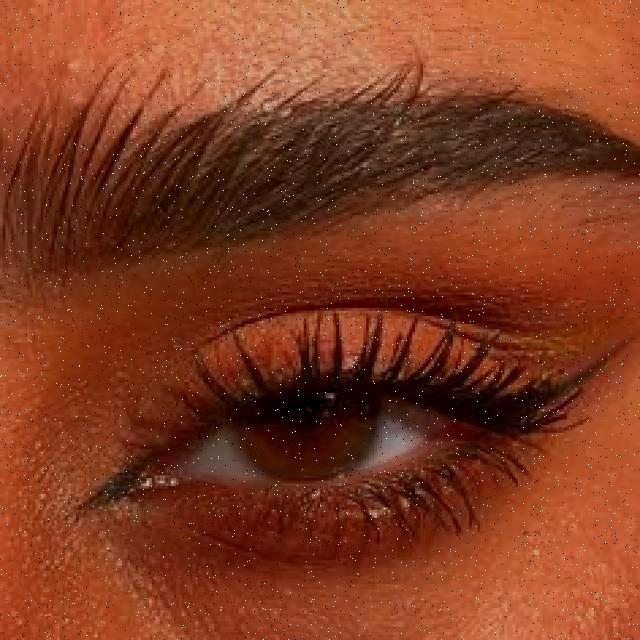Normal: (16, 215, 640, 640)
